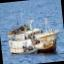fishing boat: (5, 16, 62, 60)
